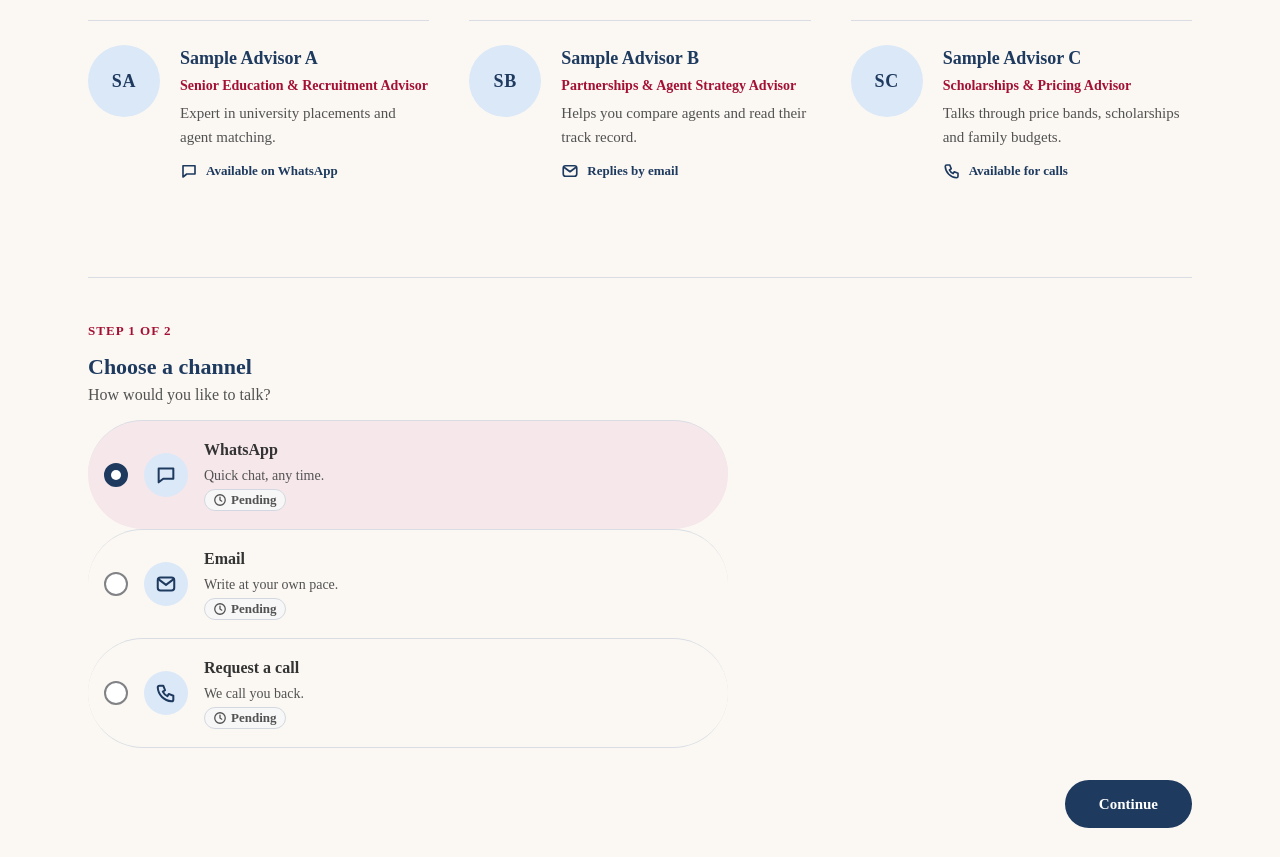
Test: AdvisorRequest › shows the advisor card with TBC photo, name and reply time on step 2
The width and height of the screenshot is (1280, 857).
(page scrolled)
Click the button "Continue": (1128, 804) [1065,780,1192,828]
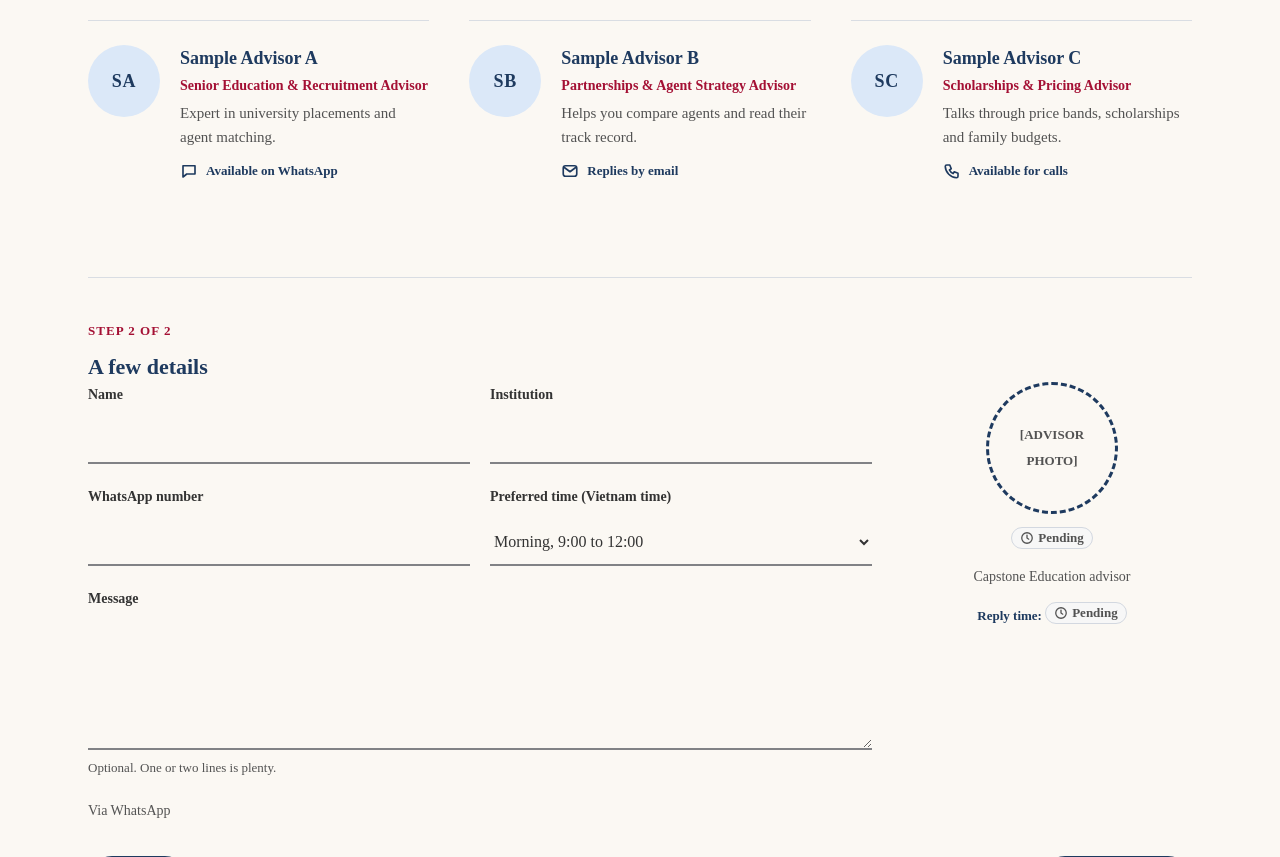
Expected: the picture "[ADVISOR PHOTO]" is shown, [986,382,1118,514]
